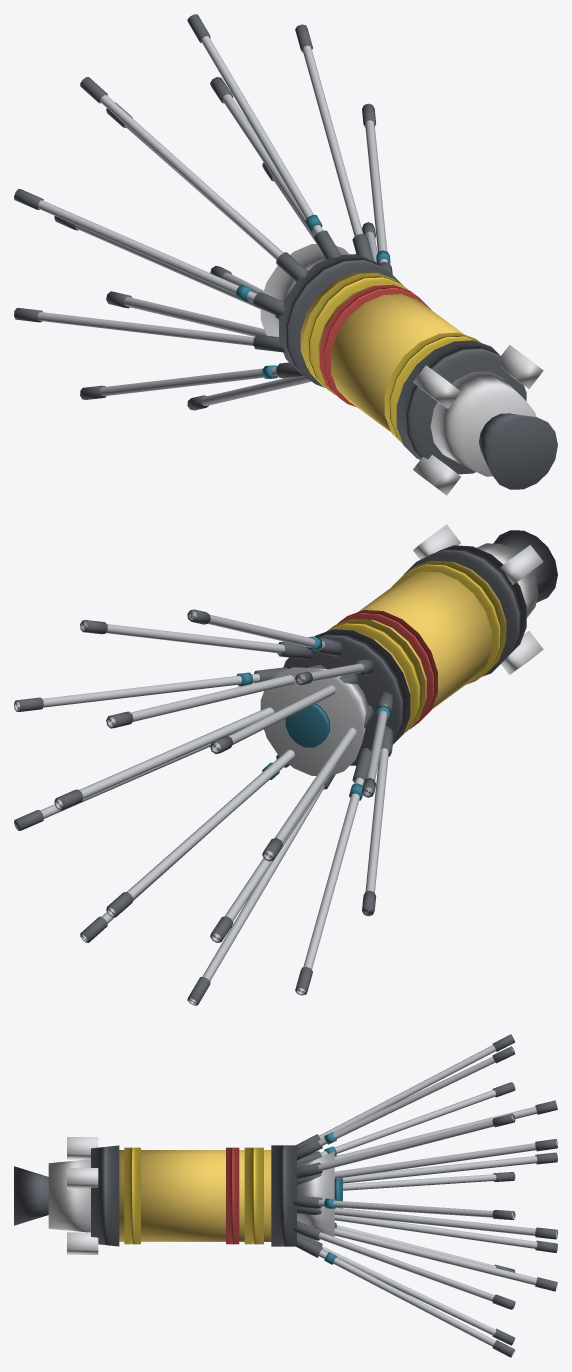
File: mod_excalibur_xray_cassette_probe.glb
3 views of the same model, one above another, from view 1: azimuth 30°, elevation 25°; view 2: azimuth 150°, elevation 25°; view 3: azimuth 270°, elevation 25° (orthographic). The views are drawn at different scales.
Parts seen in each view (by area): view 1: Excalibur_Tungsten_Shields_Collars, Excalibur_16x_Tungsten_LasingRods, Excalibur_Probe_Bus, Excalibur_Core_Gold_MLI, Excalibur_Nuclear_Hazard_Yellow, Excalibur_Nuclear_Hazard_Red, Excalibur_Targeting_Optics; view 2: Excalibur_16x_Tungsten_LasingRods, Excalibur_Tungsten_Shields_Collars, Excalibur_Probe_Bus, Excalibur_Core_Gold_MLI, Excalibur_Nuclear_Hazard_Yellow, Excalibur_Targeting_Optics, Excalibur_Nuclear_Hazard_Red; view 3: Excalibur_16x_Tungsten_LasingRods, Excalibur_Tungsten_Shields_Collars, Excalibur_Core_Gold_MLI, Excalibur_Probe_Bus, Excalibur_Nuclear_Hazard_Yellow, Excalibur_Nuclear_Hazard_Red, Excalibur_Targeting_Optics.
Boxes of the visible parts, bbox=[...] form: Excalibur_Tungsten_Shields_Collars: bbox=[14, 14, 557, 489]; Excalibur_16x_Tungsten_LasingRods: bbox=[38, 36, 388, 405]; Excalibur_Probe_Bus: bbox=[260, 244, 543, 495]; Excalibur_Core_Gold_MLI: bbox=[300, 272, 464, 431]; Excalibur_Nuclear_Hazard_Yellow: bbox=[303, 272, 480, 443]; Excalibur_Nuclear_Hazard_Red: bbox=[319, 284, 431, 407]; Excalibur_Targeting_Optics: bbox=[235, 214, 390, 378]; Excalibur_16x_Tungsten_LasingRods: bbox=[15, 611, 388, 1004]; Excalibur_Tungsten_Shields_Collars: bbox=[14, 530, 557, 1005]; Excalibur_Probe_Bus: bbox=[260, 524, 543, 776]; Excalibur_Core_Gold_MLI: bbox=[358, 561, 506, 709]; Excalibur_Nuclear_Hazard_Yellow: bbox=[326, 560, 505, 733]; Excalibur_Targeting_Optics: bbox=[236, 636, 390, 800]; Excalibur_Nuclear_Hazard_Red: bbox=[337, 610, 437, 729]; Excalibur_16x_Tungsten_LasingRods: bbox=[318, 1045, 557, 1356]; Excalibur_Tungsten_Shields_Collars: bbox=[14, 1034, 557, 1357]; Excalibur_Core_Gold_MLI: bbox=[119, 1150, 271, 1241]; Excalibur_Probe_Bus: bbox=[48, 1137, 334, 1254]; Excalibur_Nuclear_Hazard_Yellow: bbox=[124, 1147, 263, 1244]; Excalibur_Nuclear_Hazard_Red: bbox=[226, 1147, 239, 1244]; Excalibur_Targeting_Optics: bbox=[324, 1132, 342, 1264].
Size of the model in its own units: 4.21 by 4.42 by 7.29.
